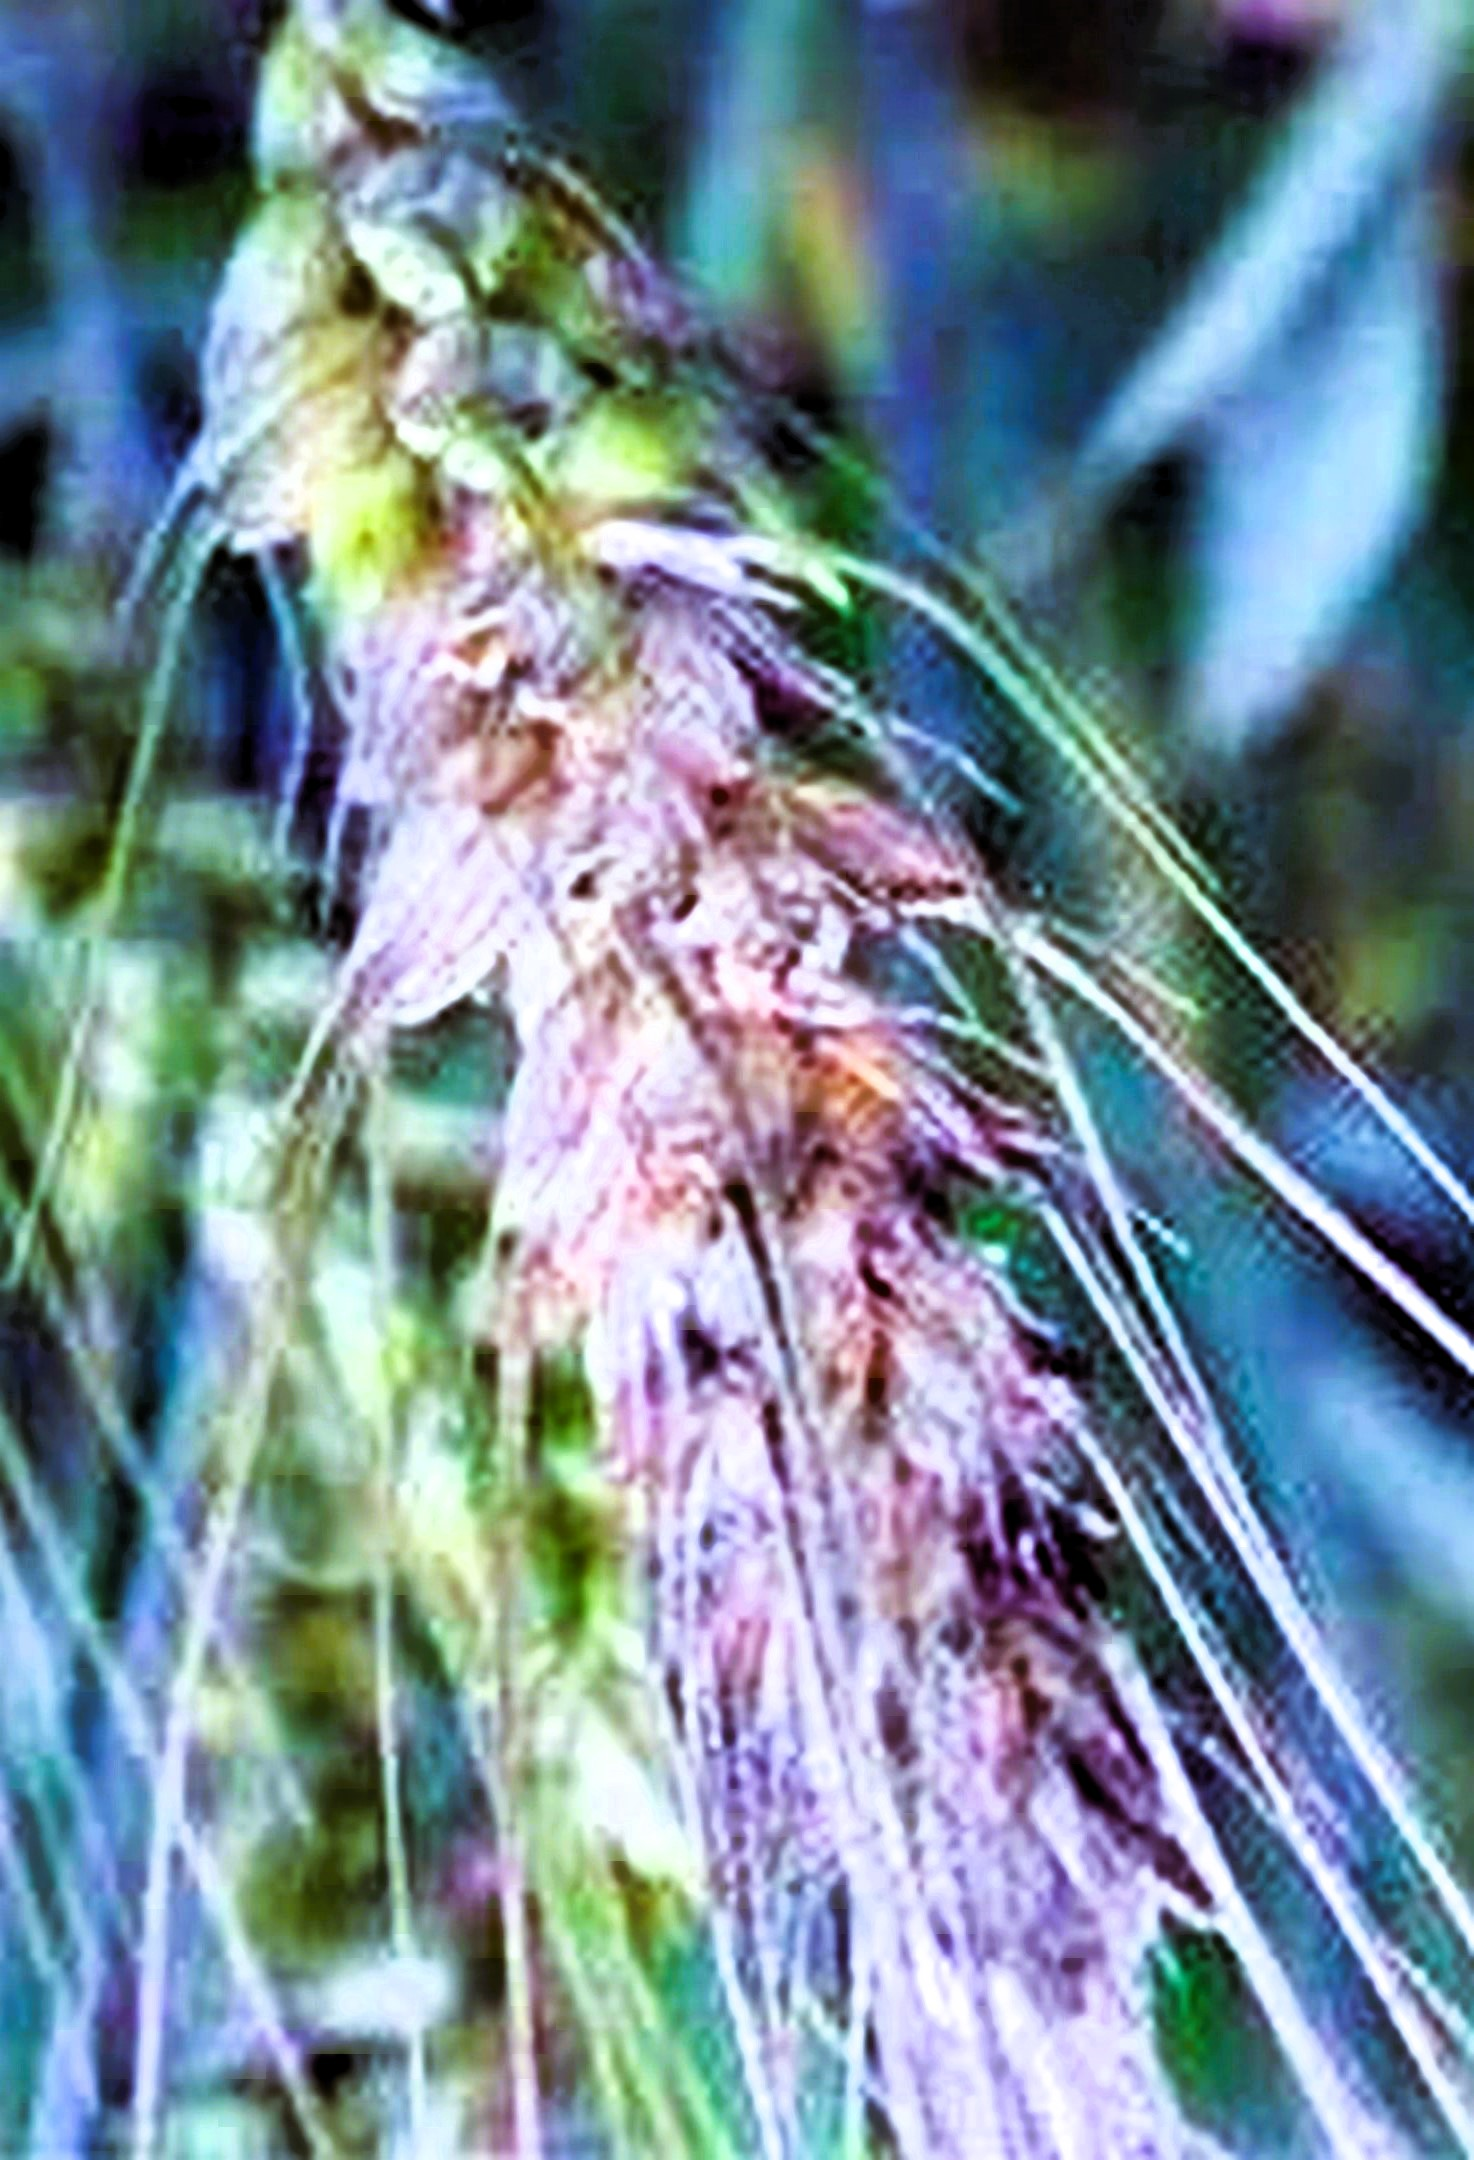Wheat scab: (204, 110, 1057, 1651)
